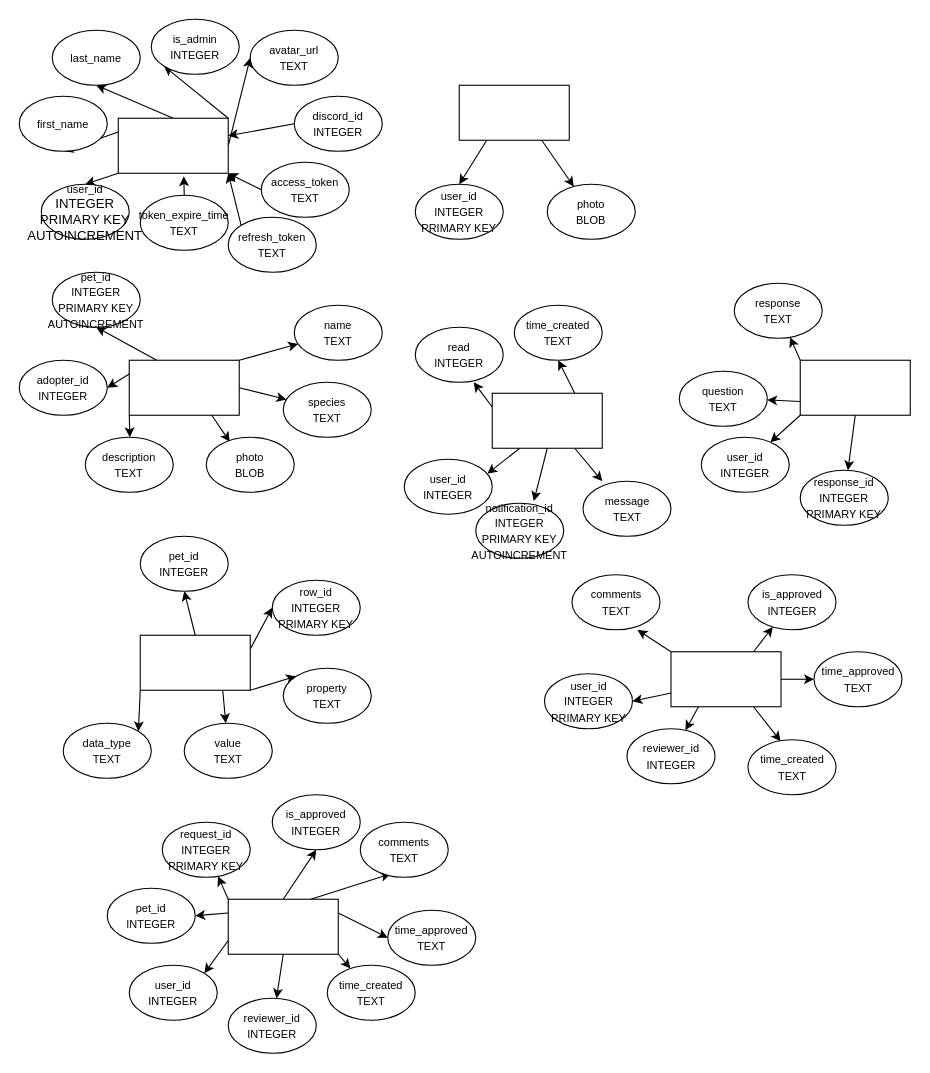
This 930x1073 diagram has some shape labels left out. The centre of each missing label's shape, as x and y in pixels:
adoption_requests: the point at 282,926
notifications: the point at 546,420
pet_properties: the point at 194,662
pets: the point at 183,387
photo_ids: the point at 513,112
questionnaires: the point at 725,679
responses: the point at 854,387
users: the point at 172,145
